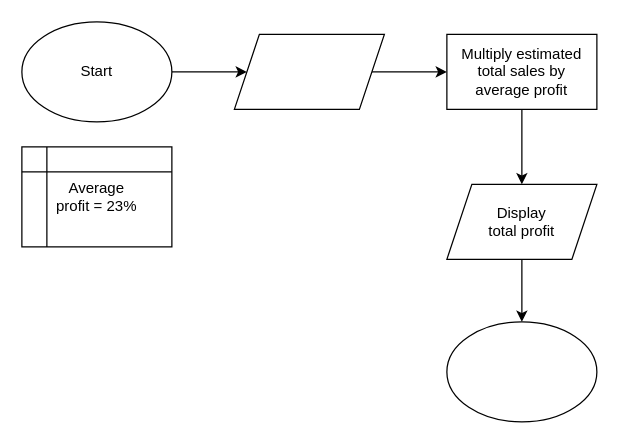
Image size: 619x444. Some labels were removed from this diagram. Each missing label, with the box of its shape:
End: (446, 321, 597, 422)
Input estimated total sales: (233, 33, 384, 109)
